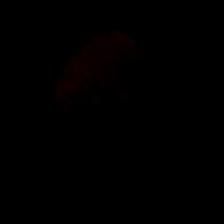fertile: (50, 26, 163, 192)
